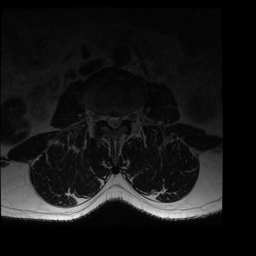CCS_normal: (112, 110, 117, 134)
LFS_normal: (123, 108, 129, 124)
LLS_normal: (117, 111, 123, 128)
RFS_stenosis: (99, 109, 106, 125)
RLS_normal: (106, 111, 112, 129)
